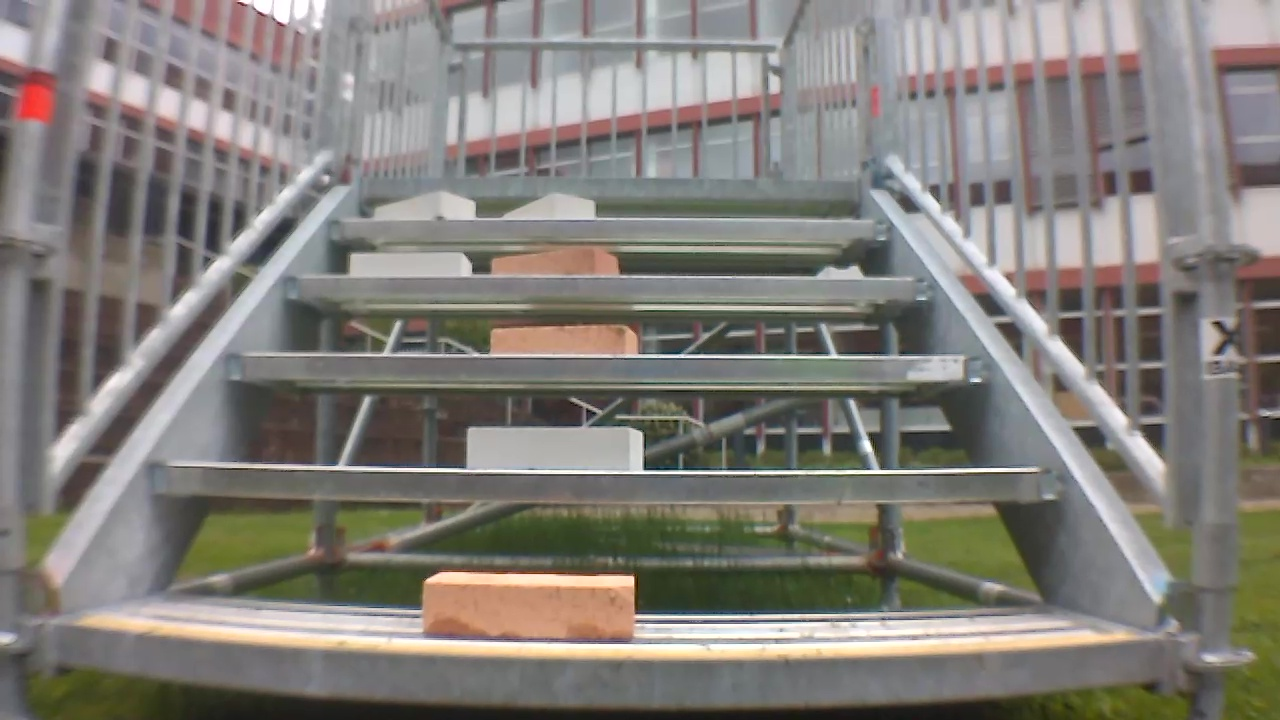brick: (422, 571, 634, 640), (469, 427, 643, 472), (491, 325, 635, 354), (494, 247, 617, 275), (350, 252, 472, 274), (375, 192, 475, 218), (505, 193, 594, 219)
edge: (56, 623, 1165, 705), (151, 463, 1063, 501), (224, 355, 992, 382), (286, 274, 935, 300), (329, 217, 891, 241), (363, 178, 863, 201)
stairs: (2, 1, 1253, 715)
steps: (46, 172, 1172, 711)
